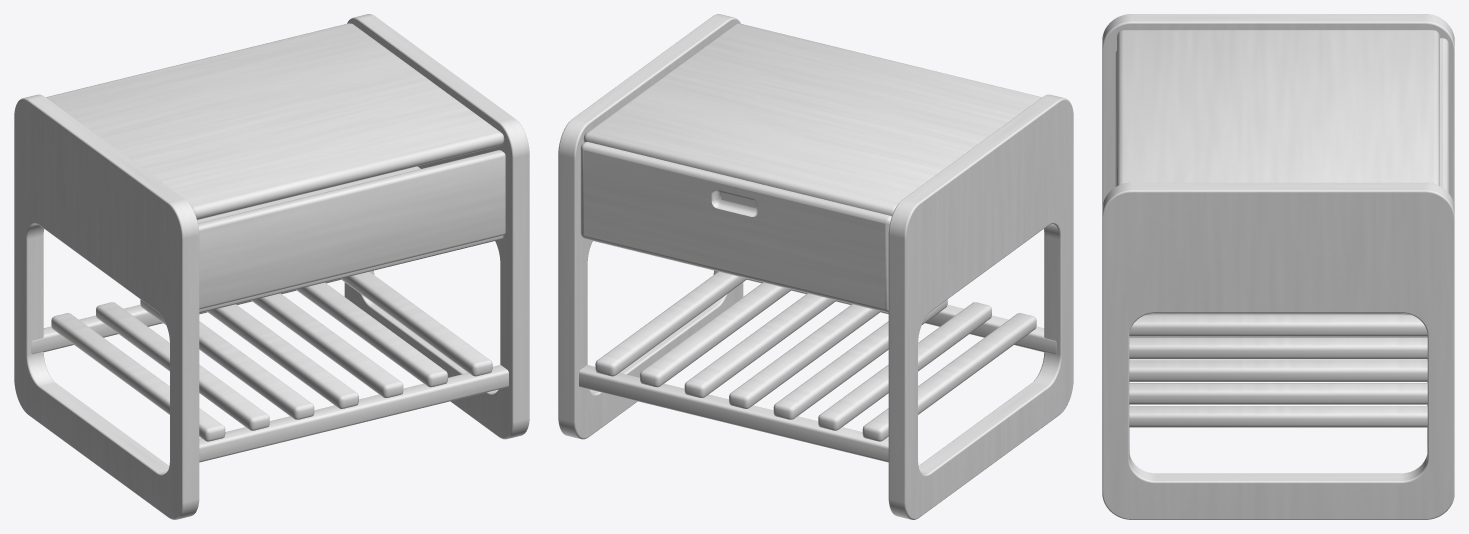
File: nightstand-rounded.glb
3 renders of one model, left to right at view 1: azimuth 30°, elevation 25°; view 2: azimuth 150°, elevation 25°; view 3: azimuth 270°, elevation 25°, orthographic. The views are drawn at different scales.
Parts seen in each view (by area): view 1: Timber tabletop, Rounded continuous side frame, Drawer back, Rounded continuous side frame.001, Shelf support rail, Lower shelf slat, Lower shelf slat.001, Lower shelf slat.006, Lower shelf slat.003, Lower shelf slat.004, Lower shelf slat.005, Lower shelf slat.002 (+2 smaller); view 2: Timber tabletop, Rounded continuous side frame, Rounded drawer front, Rounded continuous side frame.001, Shelf support rail.001, Lower shelf slat, Lower shelf slat.001, Lower shelf slat.006, Lower shelf slat.003, Lower shelf slat.004, Lower shelf slat.005, Lower shelf slat.002 (+1 smaller); view 3: Rounded continuous side frame.001, Timber tabletop, Rounded continuous side frame, Lower shelf slat.003, Lower shelf slat.004, Lower shelf slat.005, Lower shelf slat.006, Lower shelf slat.002, Rounded drawer front.
Boxes of the visible parts, x1,y1,x2,y2 form: Timber tabletop: [46, 23, 504, 219]; Rounded continuous side frame: [14, 94, 199, 519]; Drawer back: [198, 150, 505, 309]; Rounded continuous side frame.001: [344, 14, 529, 439]; Shelf support rail: [199, 365, 508, 462]; Lower shelf slat: [51, 313, 225, 441]; Lower shelf slat.001: [96, 302, 269, 430]; Lower shelf slat.006: [340, 271, 492, 376]; Lower shelf slat.003: [207, 304, 358, 408]; Lower shelf slat.004: [251, 293, 403, 397]; Lower shelf slat.005: [296, 282, 447, 387]; Lower shelf slat.002: [140, 299, 314, 419]; Timber tabletop: [583, 23, 1041, 216]; Rounded continuous side frame: [888, 94, 1073, 519]; Rounded drawer front: [580, 142, 891, 312]; Rounded continuous side frame.001: [558, 14, 743, 439]; Shelf support rail.001: [579, 365, 888, 462]; Lower shelf slat: [862, 313, 1036, 441]; Lower shelf slat.001: [818, 302, 991, 430]; Lower shelf slat.006: [595, 271, 747, 376]; Lower shelf slat.003: [729, 304, 880, 408]; Lower shelf slat.004: [684, 293, 836, 397]; Lower shelf slat.005: [640, 282, 791, 387]; Lower shelf slat.002: [773, 299, 947, 419]; Rounded continuous side frame.001: [1102, 182, 1454, 519]; Timber tabletop: [1117, 30, 1439, 185]; Rounded continuous side frame: [1102, 14, 1454, 337]; Lower shelf slat.003: [1129, 337, 1427, 359]; Lower shelf slat.004: [1129, 360, 1427, 381]; Lower shelf slat.005: [1129, 383, 1427, 404]; Lower shelf slat.006: [1129, 406, 1427, 427]; Lower shelf slat.002: [1129, 315, 1427, 336]; Rounded drawer front: [1440, 38, 1448, 193].
Bounding box in the file's own units: 0.635 × 0.55 × 0.533.
Materials: 1 (1 with a texture image).
